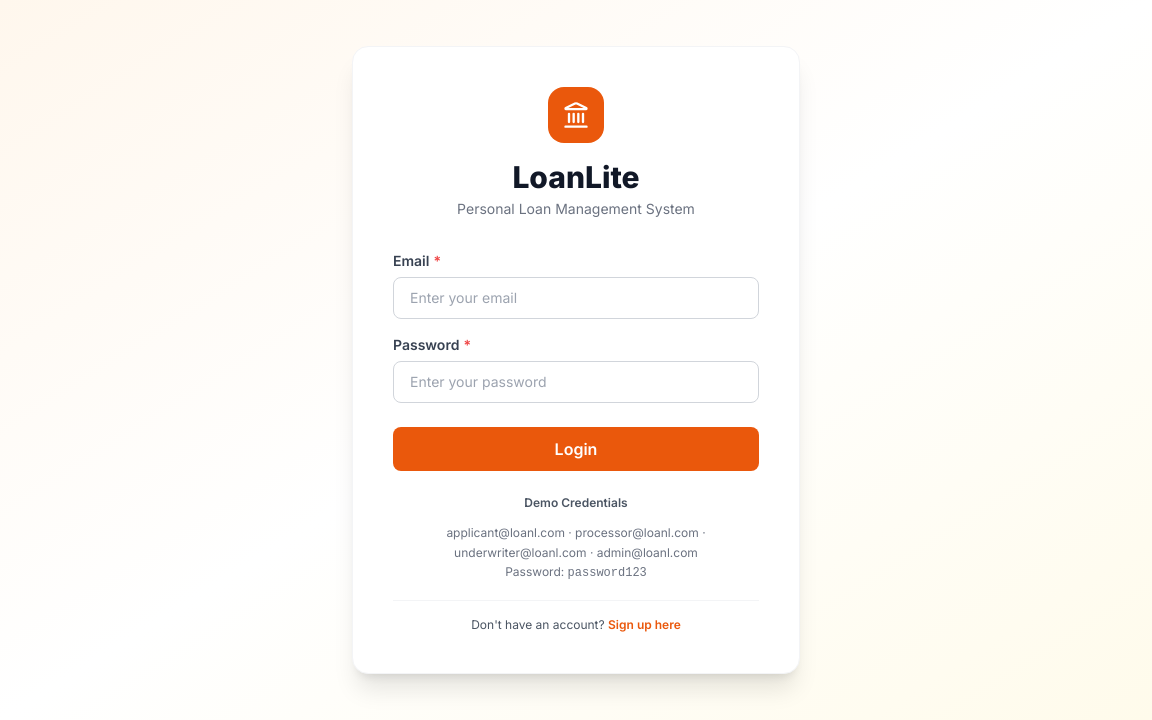
Scenario: Login — loading state › disables the submit button and shows a loading label while the request is in flight
Type "a@b.com" into the field labelled "Email*" at (576, 298), box [393,277,759,319]
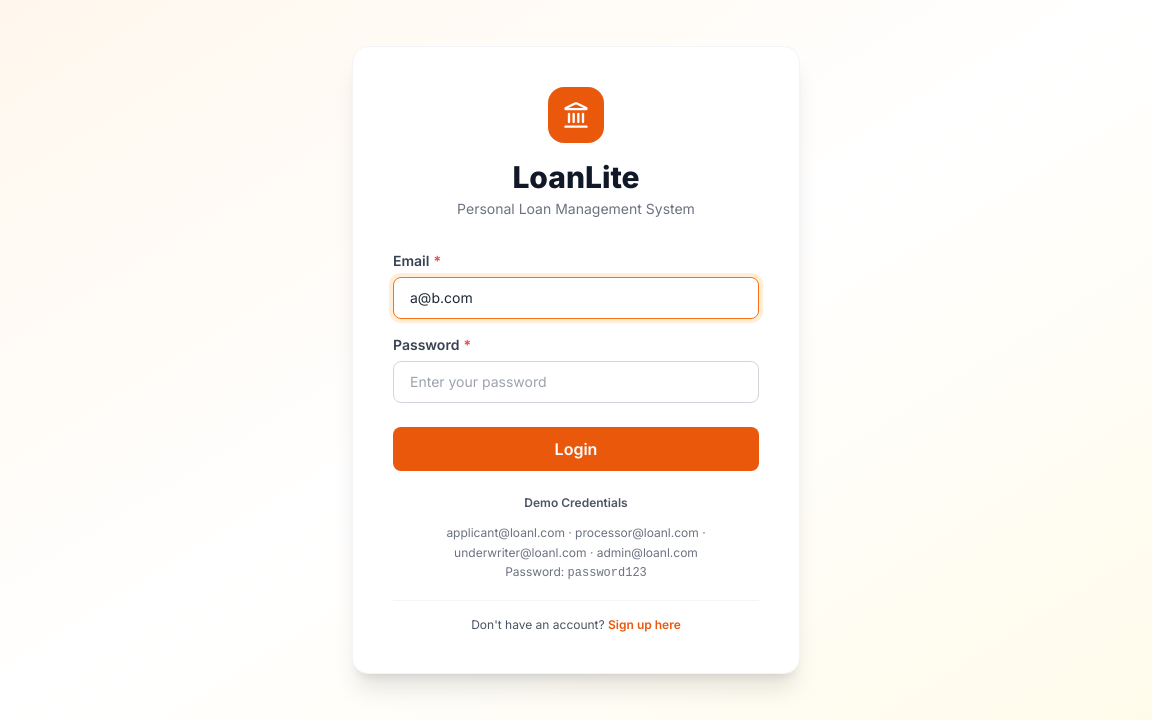
Type "password123" into the password field labelled "Password*" at (576, 382), box [393,361,759,403]
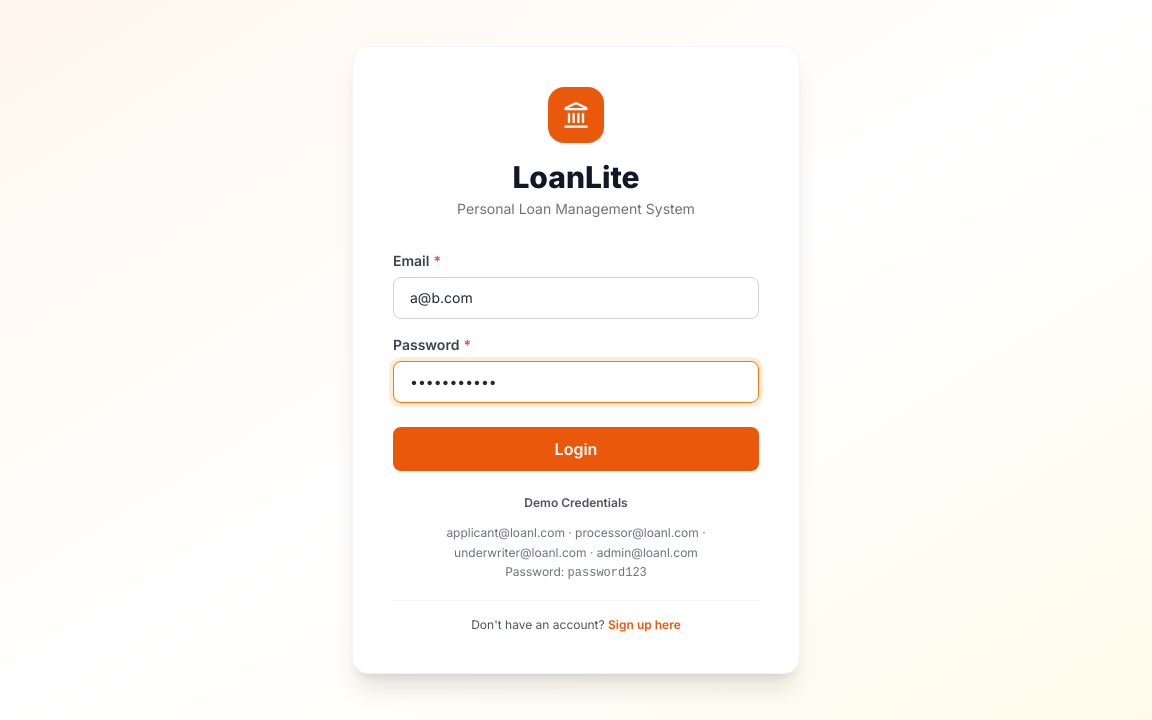
Click the button "Login" at (576, 449), box [393,427,759,471]
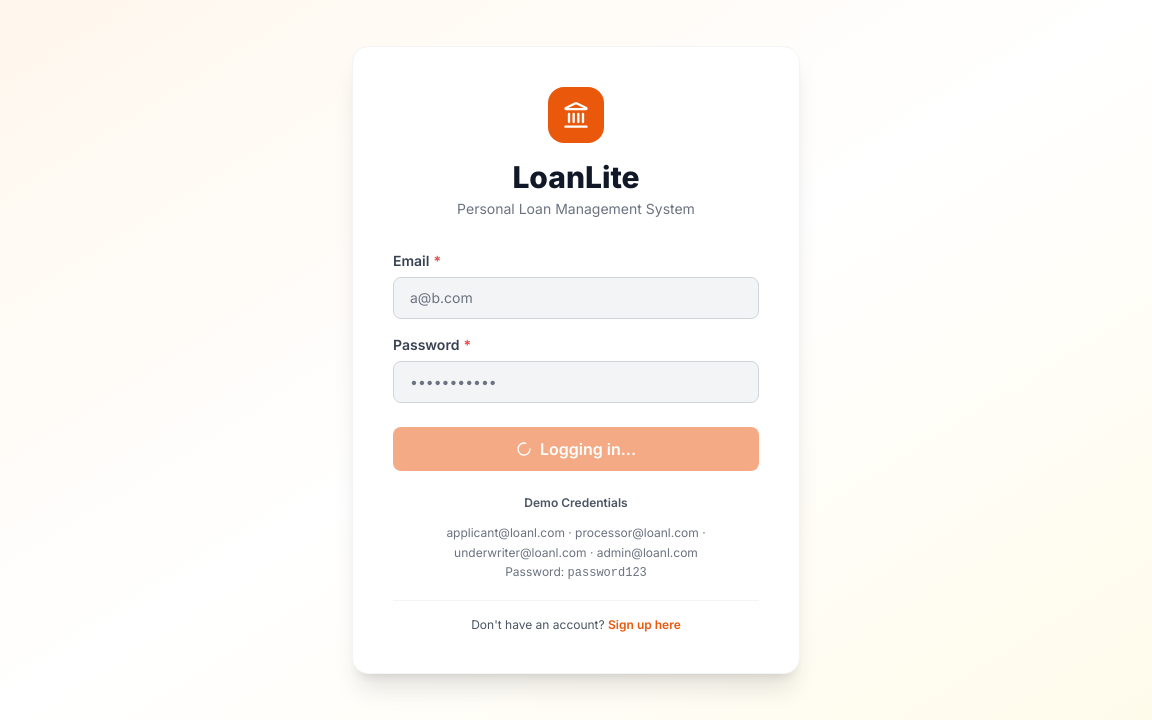
Expected: the button "Logging in..." is disabled, [393,427,759,471]
